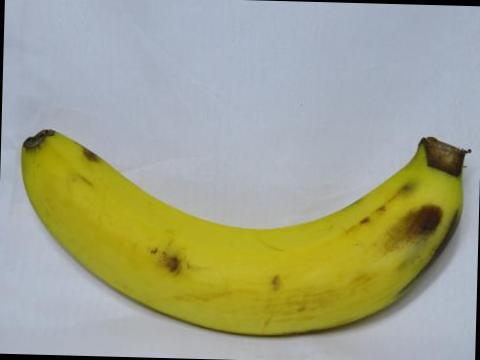freshripe: (7, 110, 479, 346)
